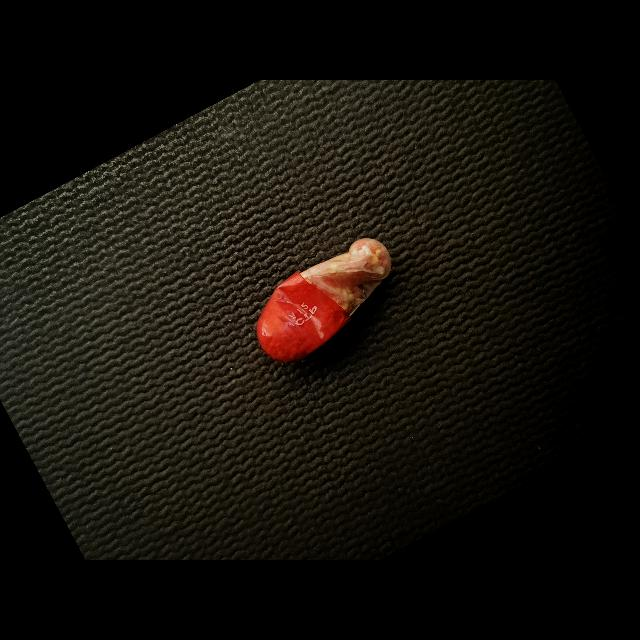Defective Capsule: (257, 238, 392, 362)
